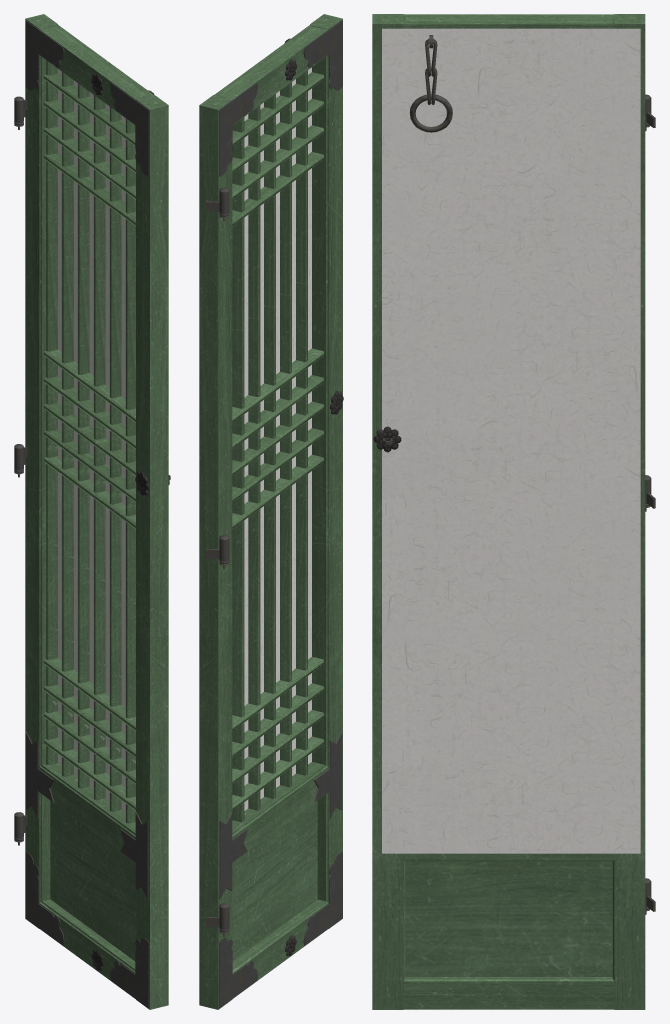
The model's file is SM_Door09E.fbx.
The picture shows the model from 3 angles, left to right: view 1: azimuth 30°, elevation 25°; view 2: azimuth 150°, elevation 25°; view 3: azimuth 270°, elevation 25°; orthographic projection. The views are drawn at different scales.
Parts seen in each view (by area): view 1: SM_Door09E; view 2: SM_Door09E; view 3: SM_Door09E.
Part boxes in pixels (bbox=[...]): SM_Door09E: bbox=[14, 14, 170, 1009]; SM_Door09E: bbox=[199, 14, 343, 1009]; SM_Door09E: bbox=[372, 14, 655, 1009].
Size of the model in its own units: 12.05 by 65.09 by 250.
Materials: 1 (1 with a texture image).
